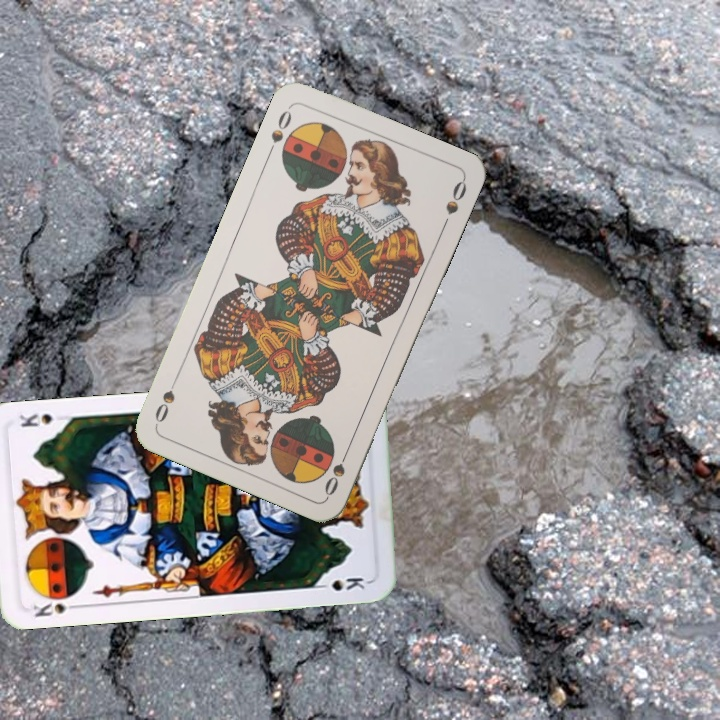SK: (29, 599, 84, 619)
SO: (320, 442, 353, 499), (263, 102, 295, 159)
